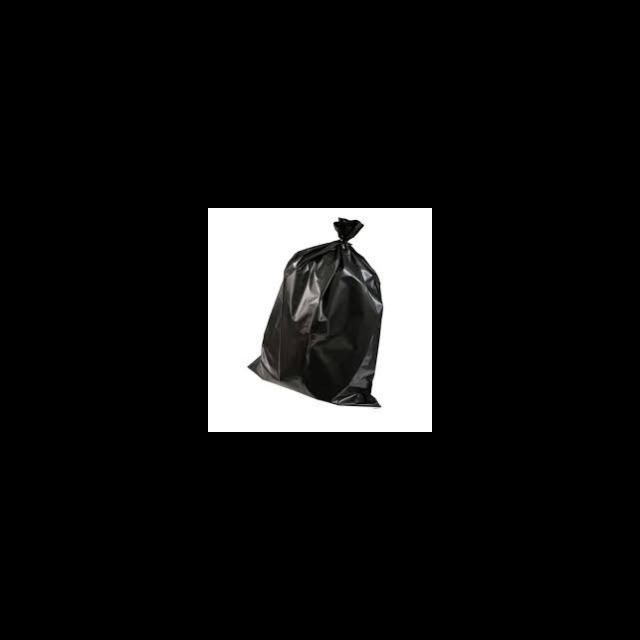plastic: (253, 217, 398, 417)
